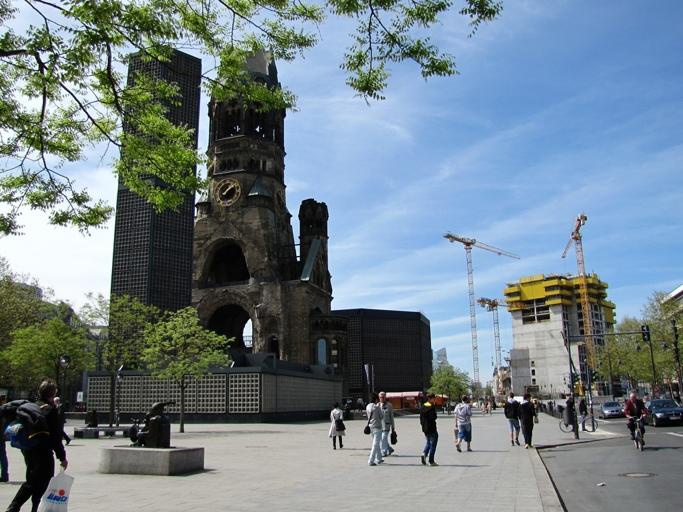non-vehicle: (558, 413, 598, 432), (630, 413, 646, 451)
